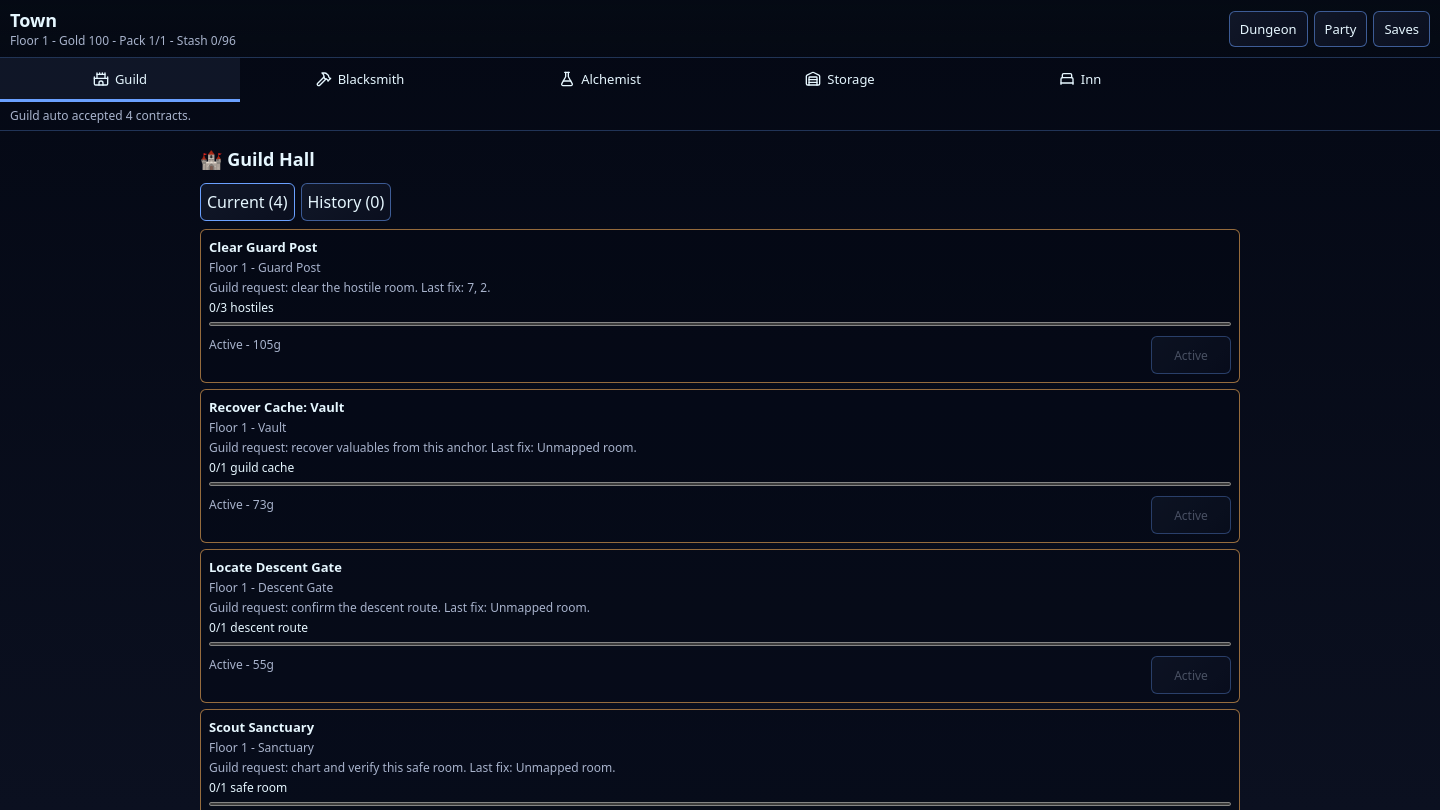
Scenario: town › permits compatible consumable stacking at capacity and rejects equipment
Click the tab "Alchemist" at (600, 80), box [480, 58, 720, 102]
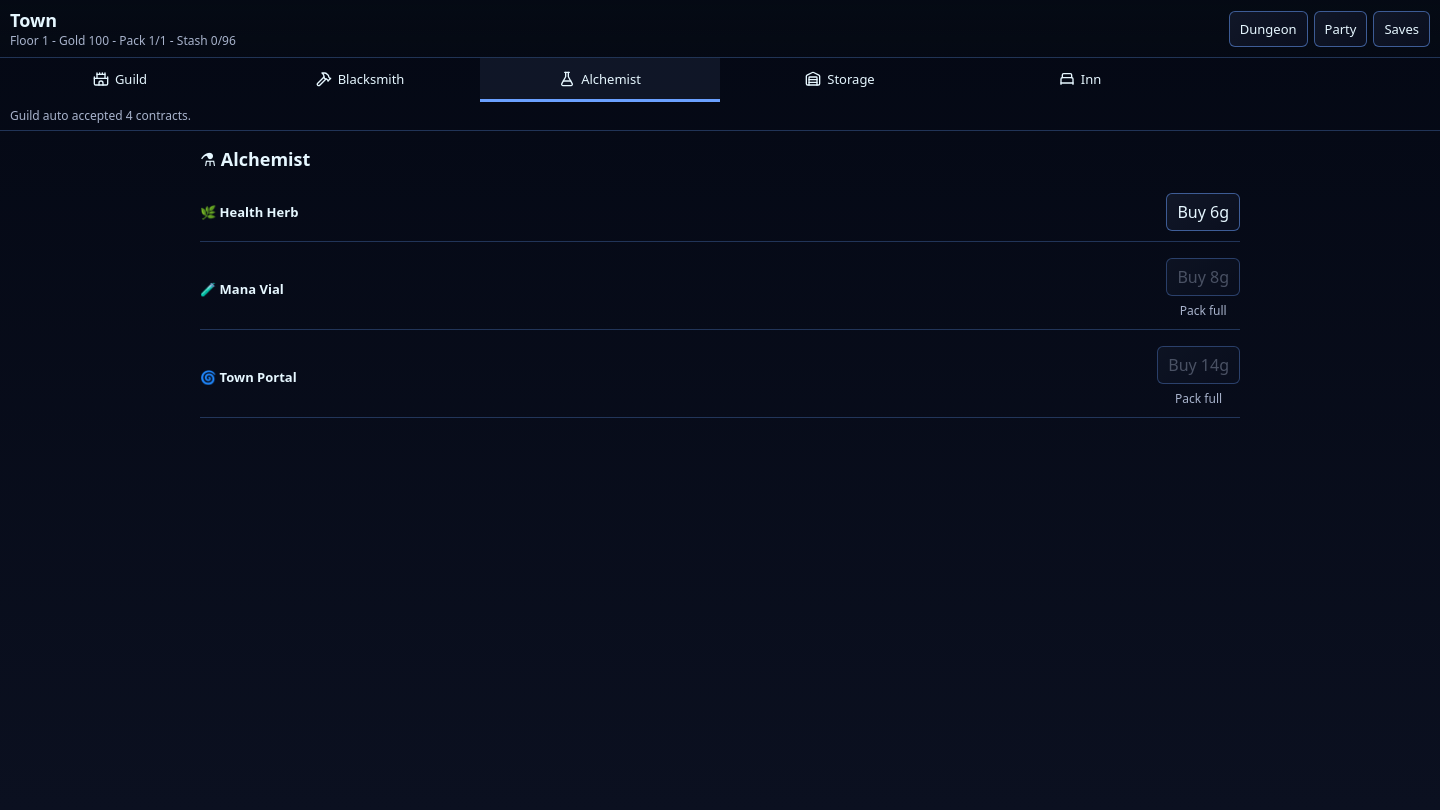
Expected: the button "Buy 6g" is enabled, [1166, 193, 1240, 231]
